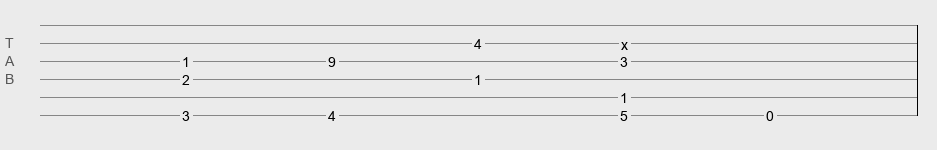0: (766, 108, 774, 118)
1: (182, 54, 190, 64), (474, 72, 482, 82), (620, 90, 628, 100)
2: (182, 72, 190, 82)
3: (182, 108, 190, 118), (620, 54, 628, 64)
4: (328, 108, 336, 118), (474, 36, 482, 46)
5: (620, 108, 628, 118)
9: (328, 54, 336, 64)
x: (621, 37, 628, 45)
